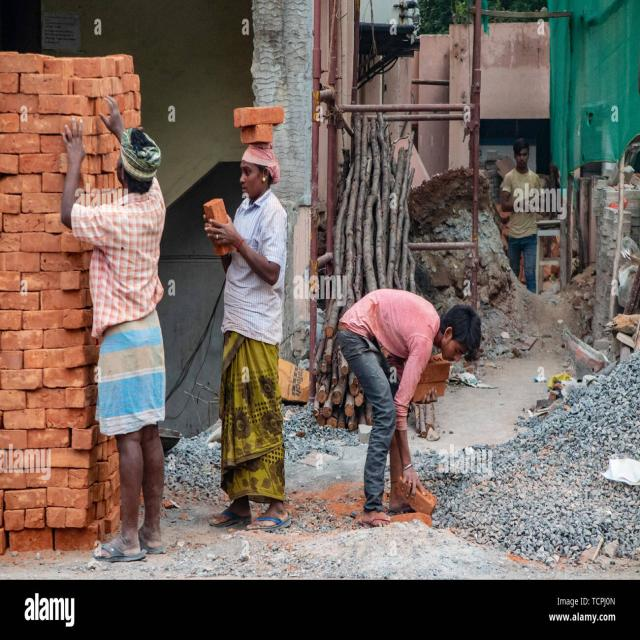no_boots: (89, 514, 157, 570), (197, 483, 260, 539), (130, 502, 176, 562), (349, 497, 400, 544), (251, 494, 294, 544)
no_gloves: (57, 109, 95, 182), (200, 213, 247, 268), (400, 450, 432, 501), (98, 90, 126, 139)
no_hardhat: (109, 127, 170, 210), (430, 286, 482, 372), (228, 145, 284, 215), (508, 135, 532, 171)
no_vest: (60, 174, 181, 331), (330, 286, 437, 434), (215, 177, 296, 352), (500, 168, 544, 241)
person: (56, 89, 188, 570), (198, 143, 298, 543), (332, 285, 487, 529), (494, 128, 550, 298)
